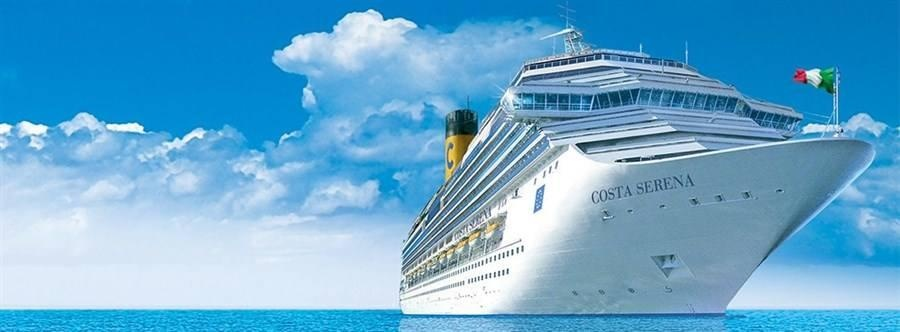youlun: (399, 23, 862, 321)
